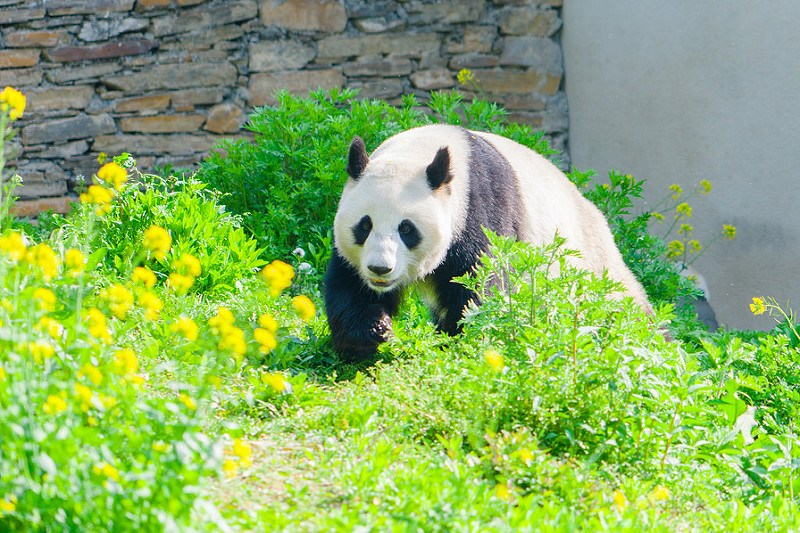panda: (323, 120, 680, 370)
